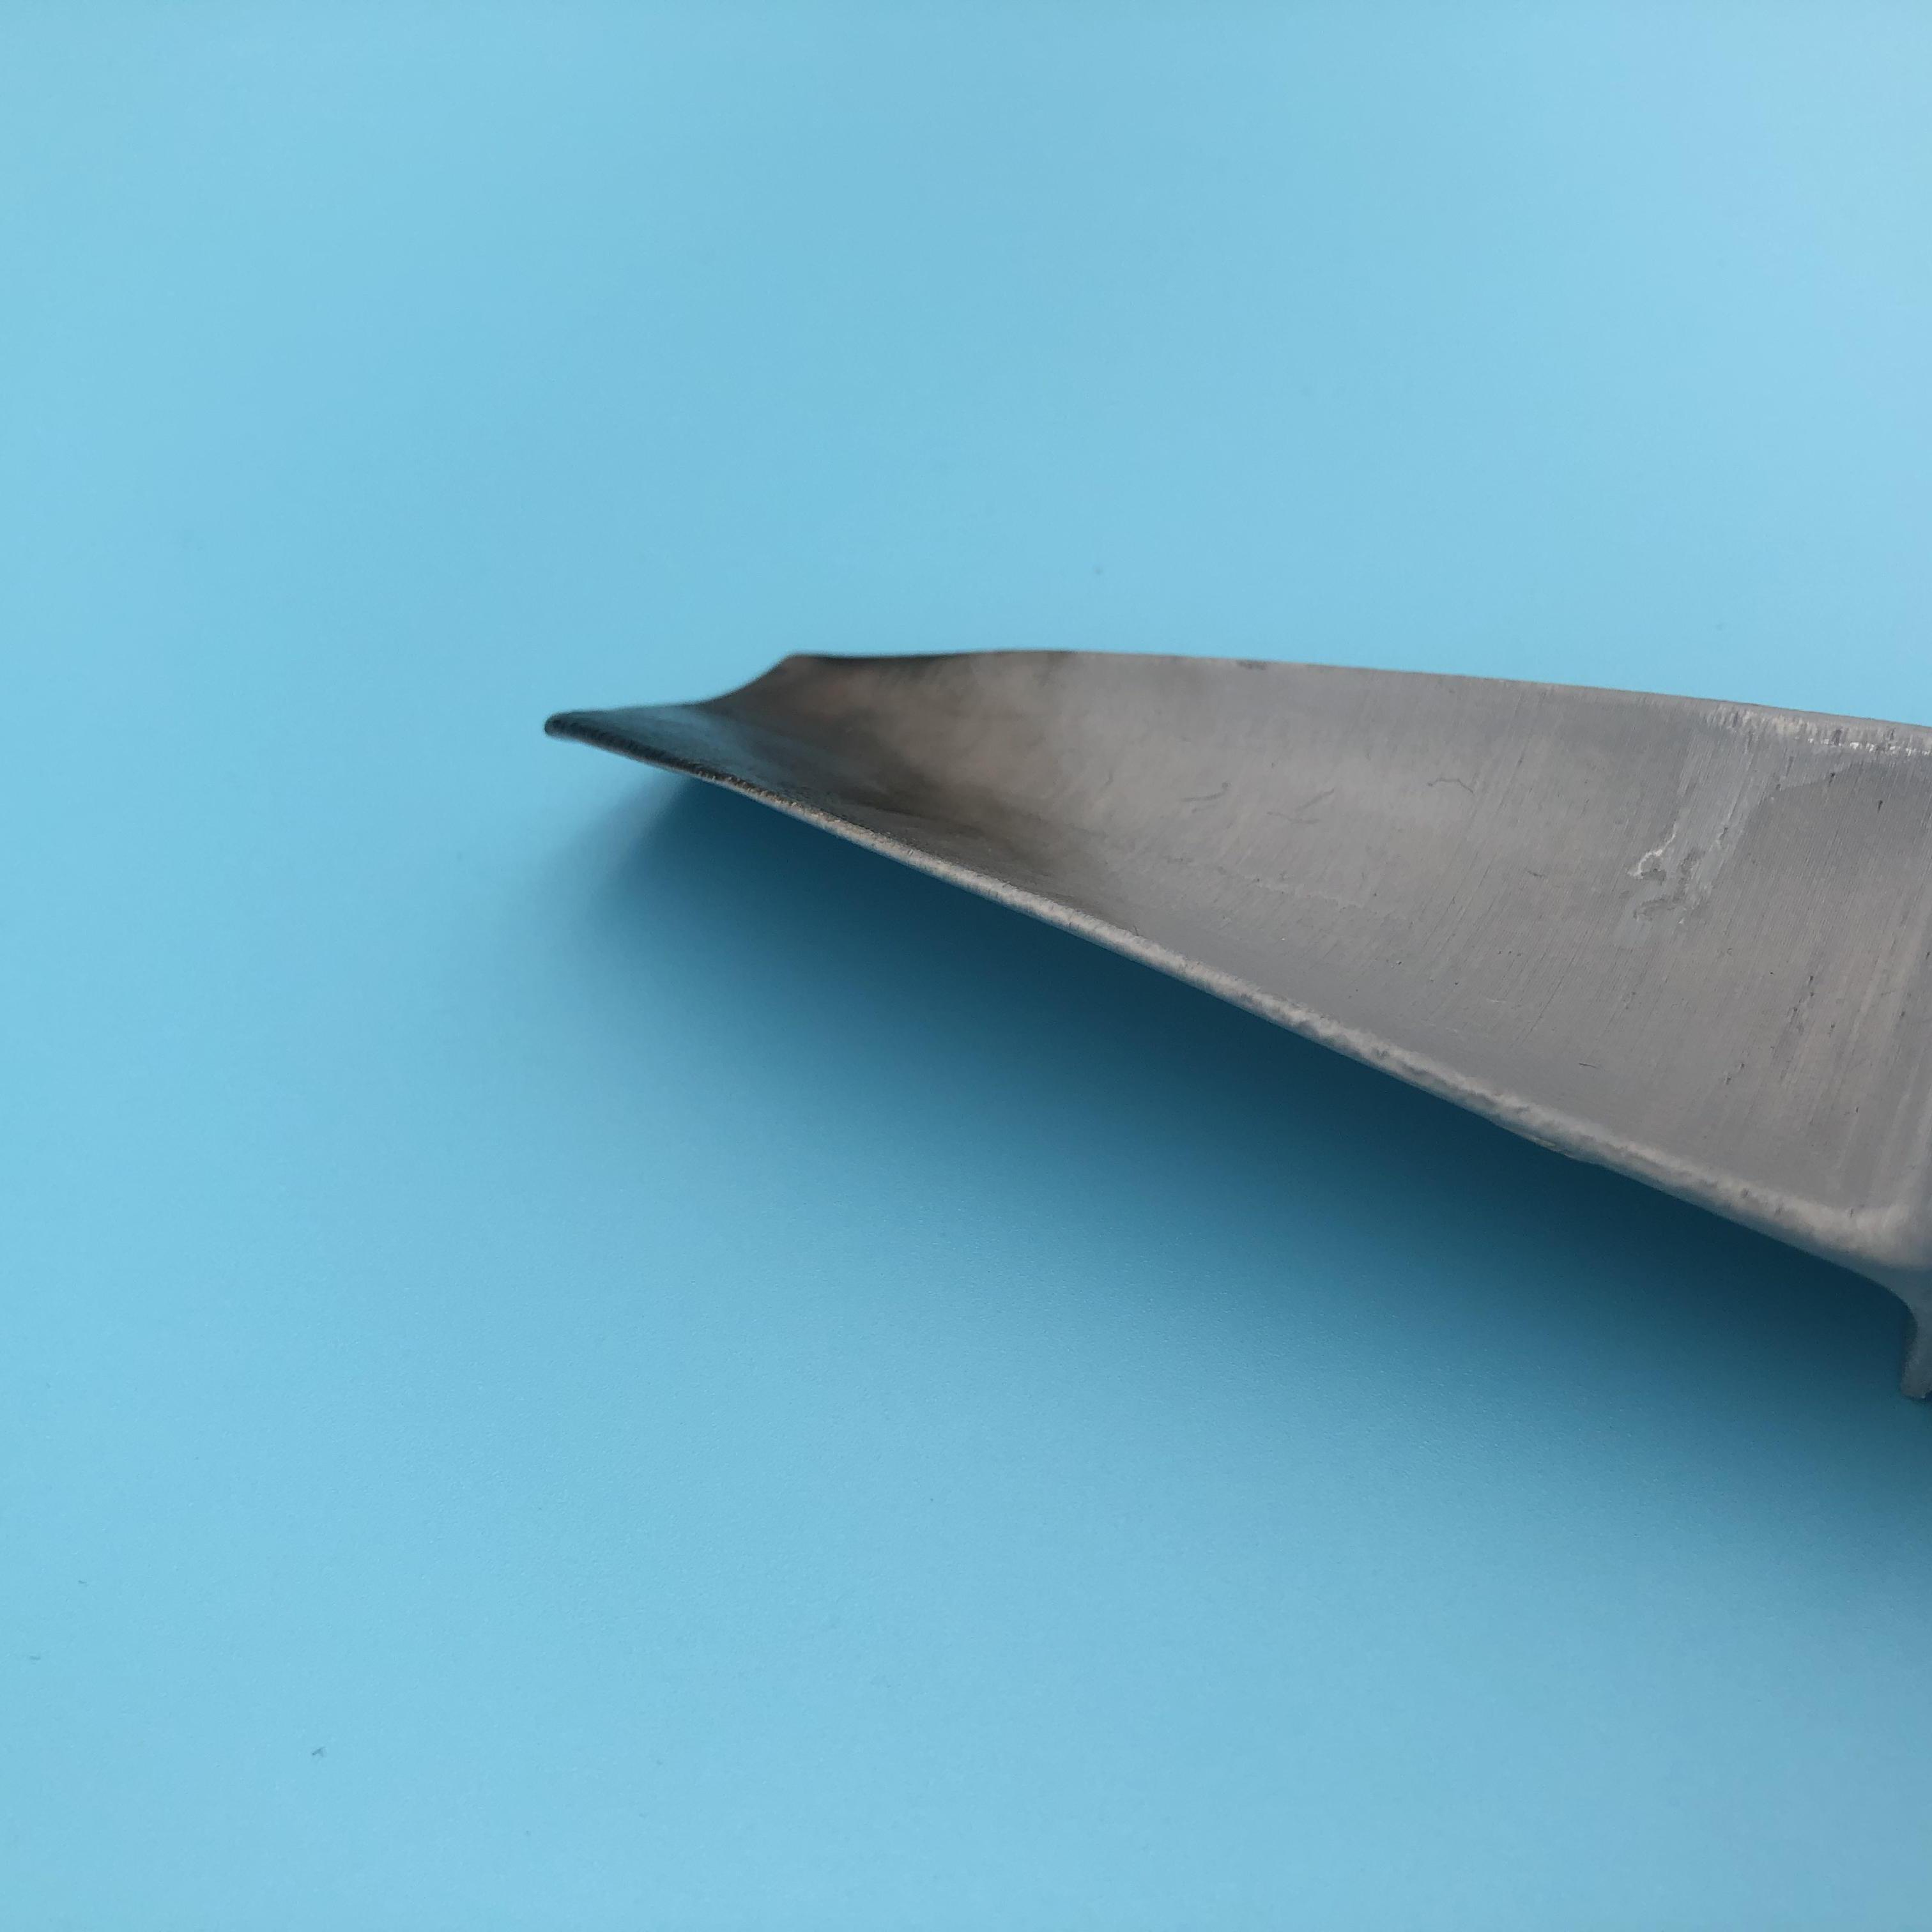ablation: (630, 655, 1056, 856)
